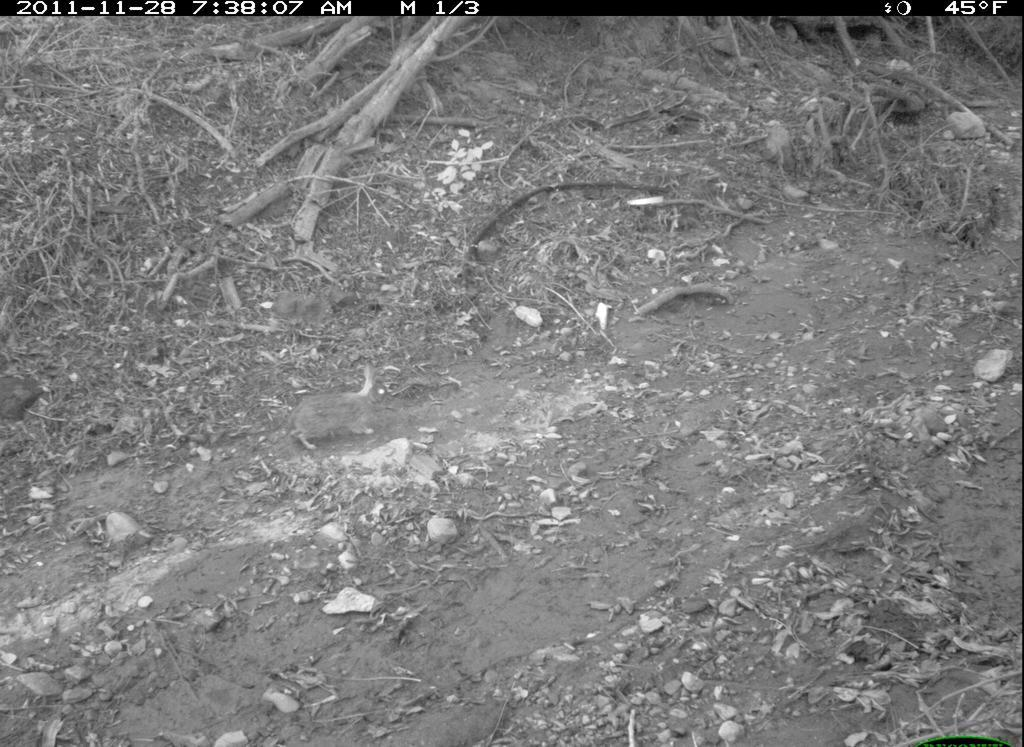rabbit: (281, 355, 397, 461)
